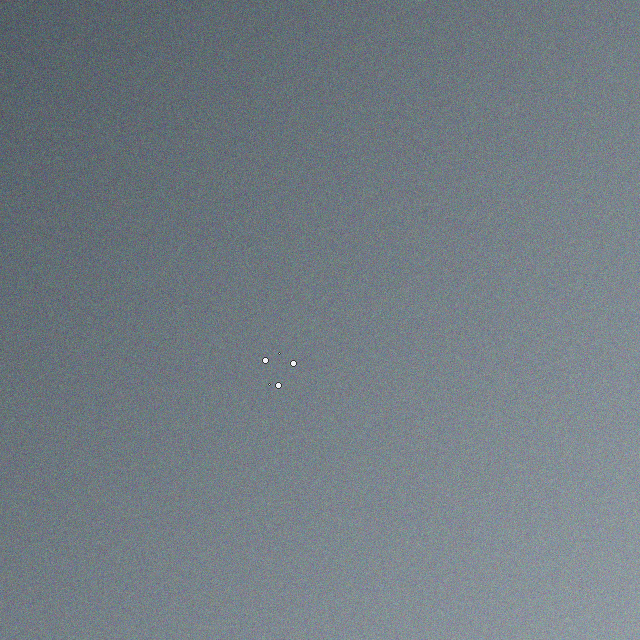particle: (254, 345, 300, 391)
